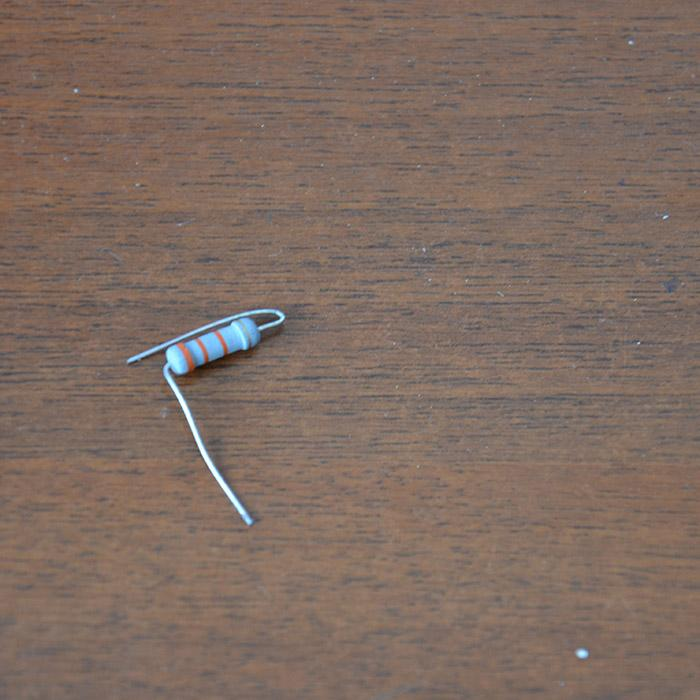resistor: (163, 316, 260, 376)
